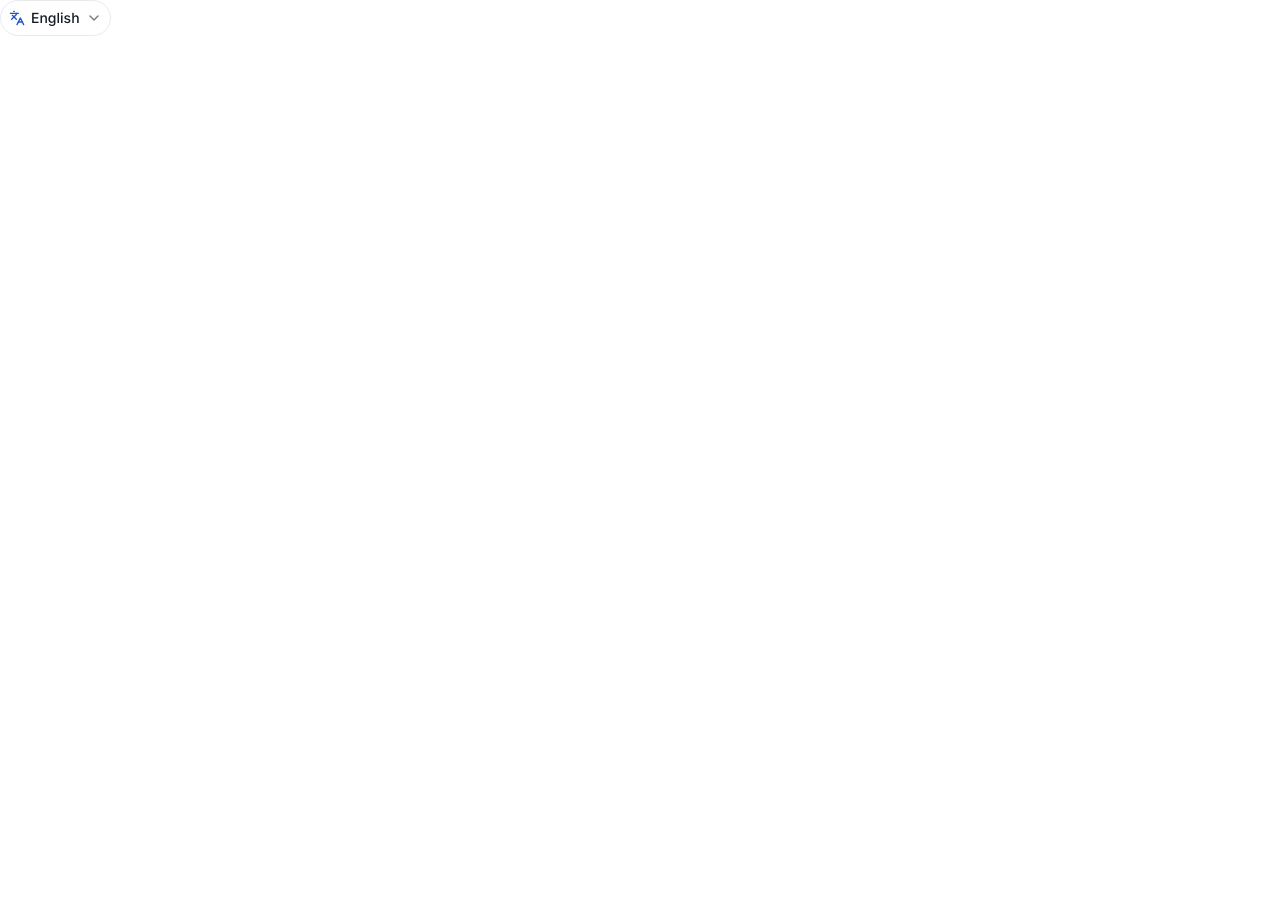
Test case: language switcher › shows the active language in the trigger and adds a language
The image size is (1280, 900).
Click the button "English".
click(55, 18)  # box [0, 0, 111, 36]
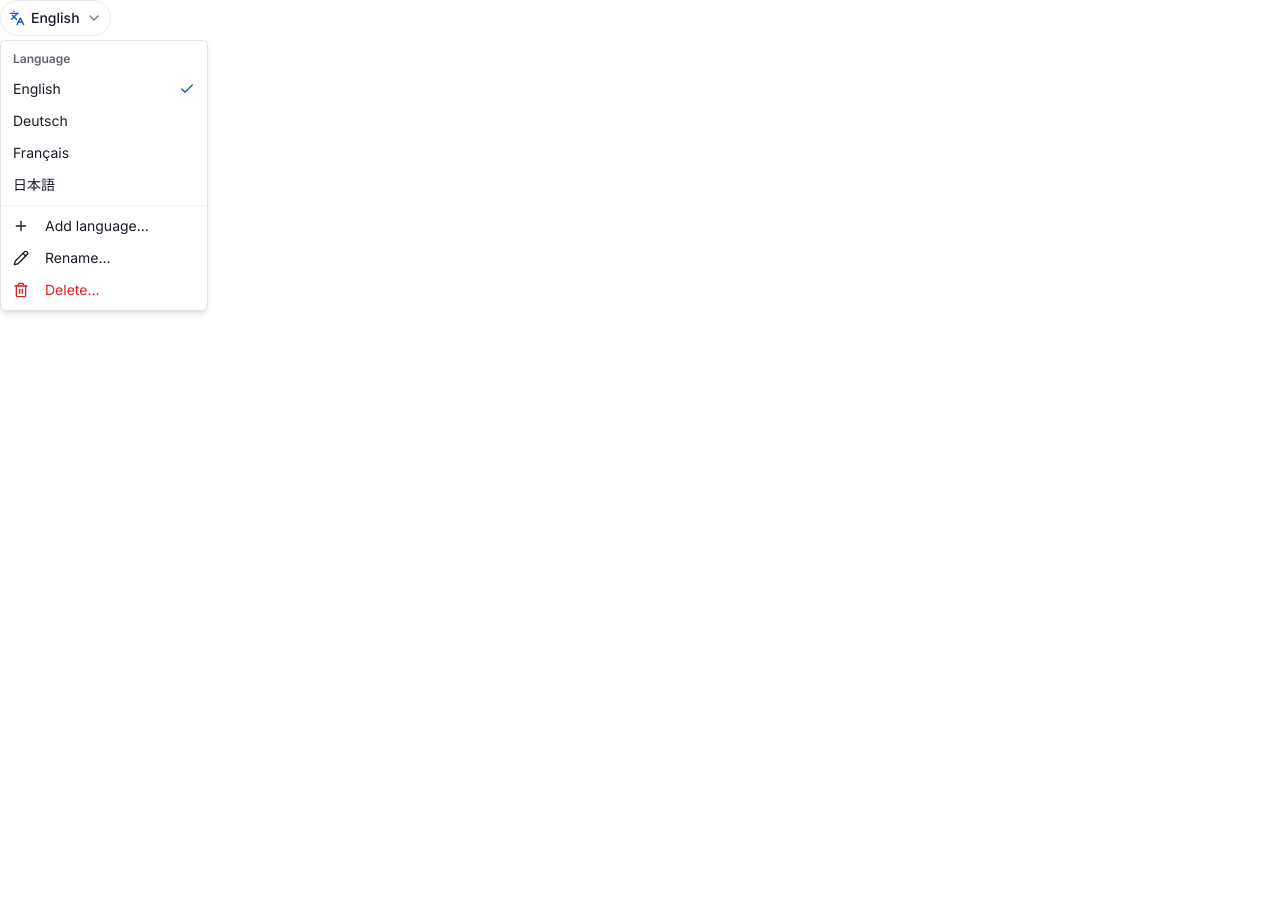
Check: the menu item "Add language…" is shown
Click the menu item "Add language…".
click(81, 226)  # box [13, 217, 149, 234]
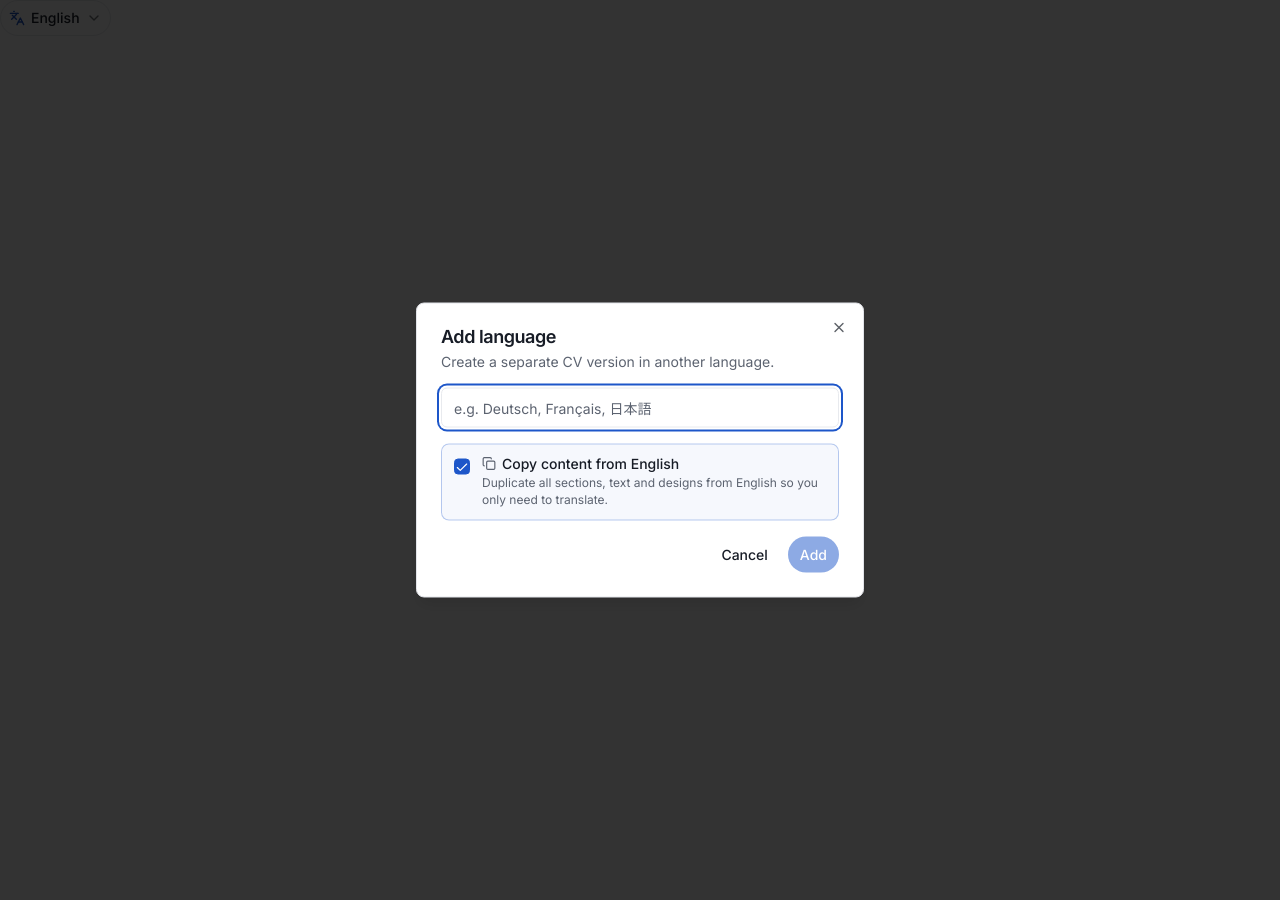
Check: the dialog is shown, box [416, 302, 864, 598]
Type "Español" into the field with placeholder "e.g. Deutsch, Français, 日本語".
click(640, 408); type("Español")  # box [441, 388, 839, 428]
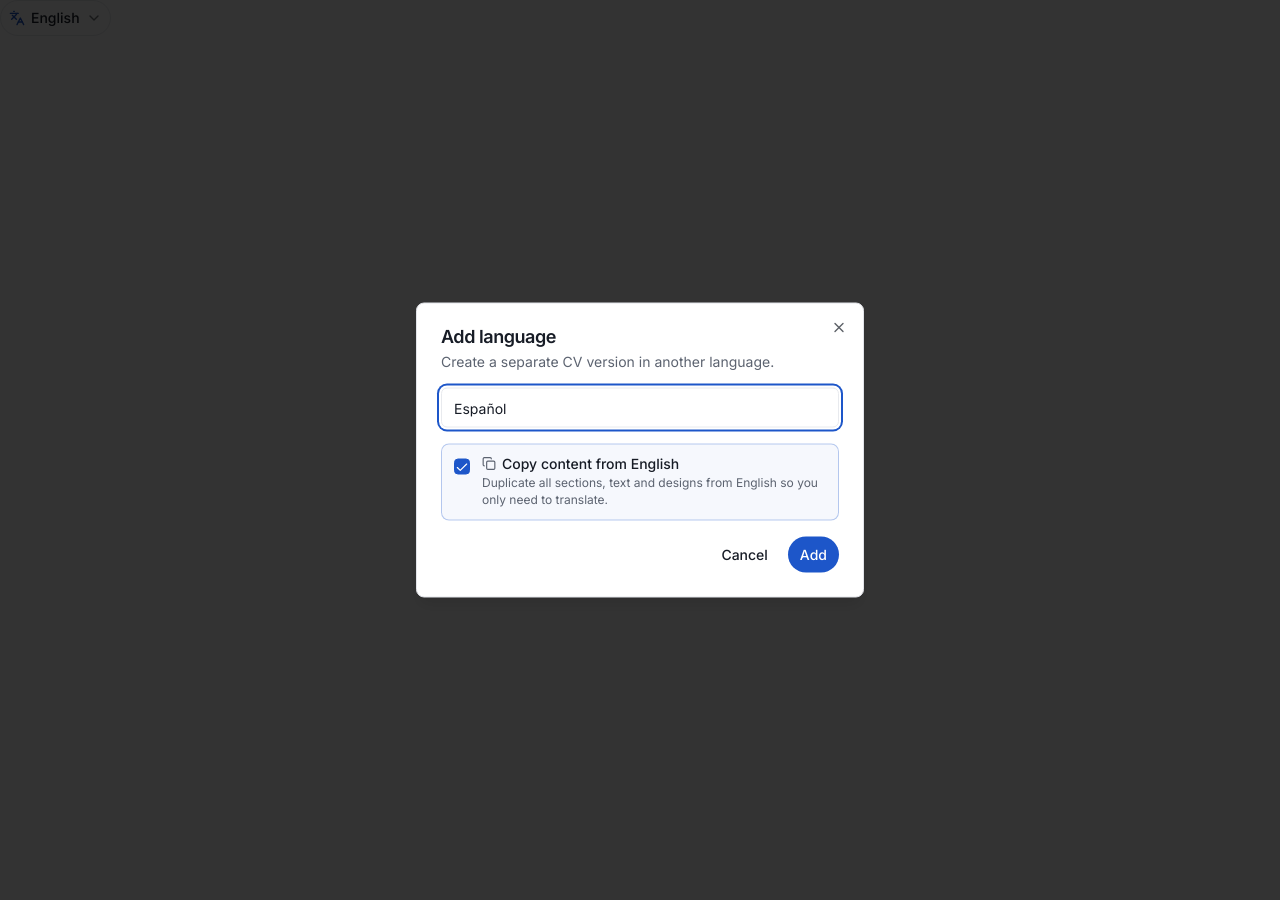
Click the button "Add".
click(813, 554)  # box [788, 536, 839, 572]
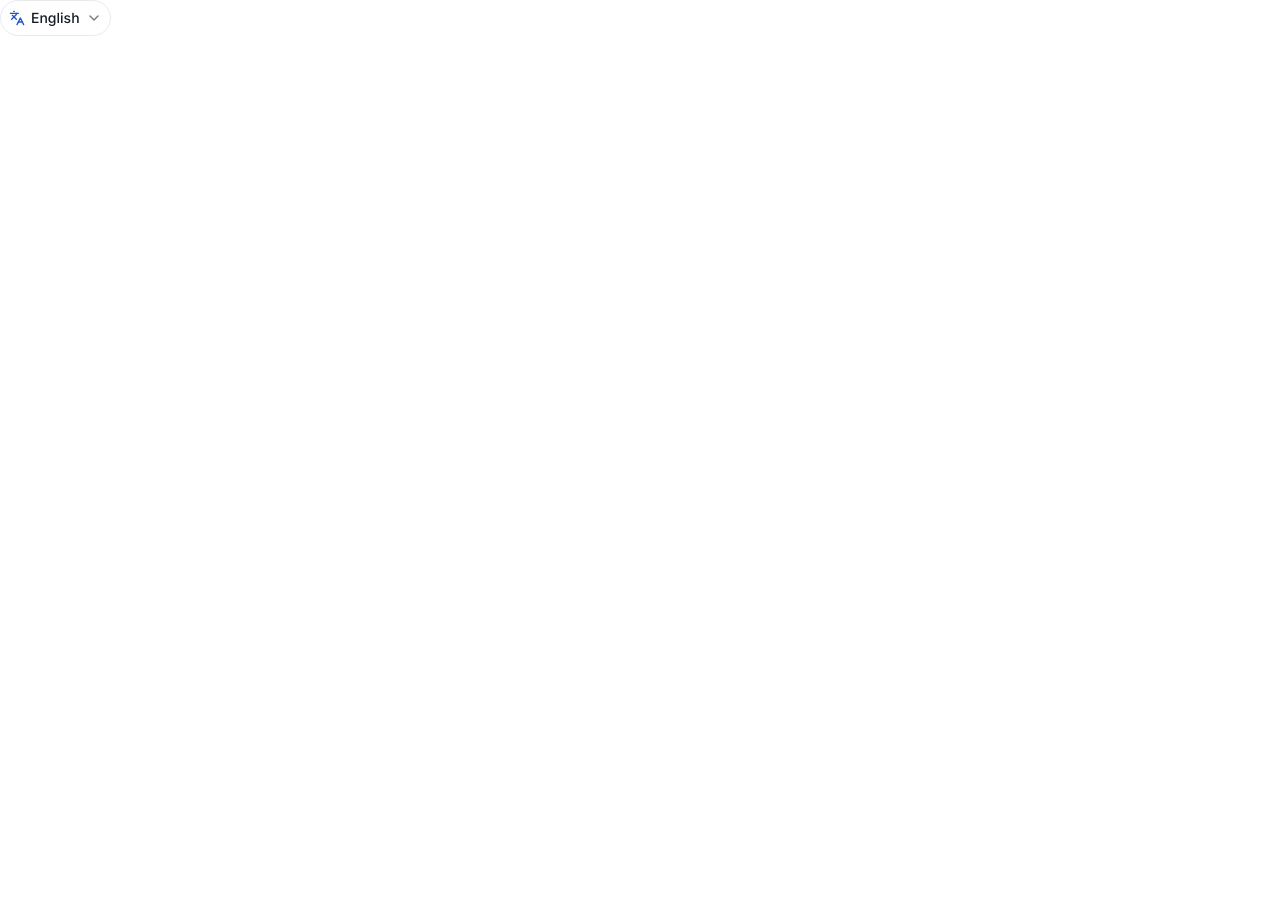
Check: the dialog is gone
// Reopen the menu — the new language should be listed.
Click the button "English".
click(55, 18)  # box [0, 0, 111, 36]
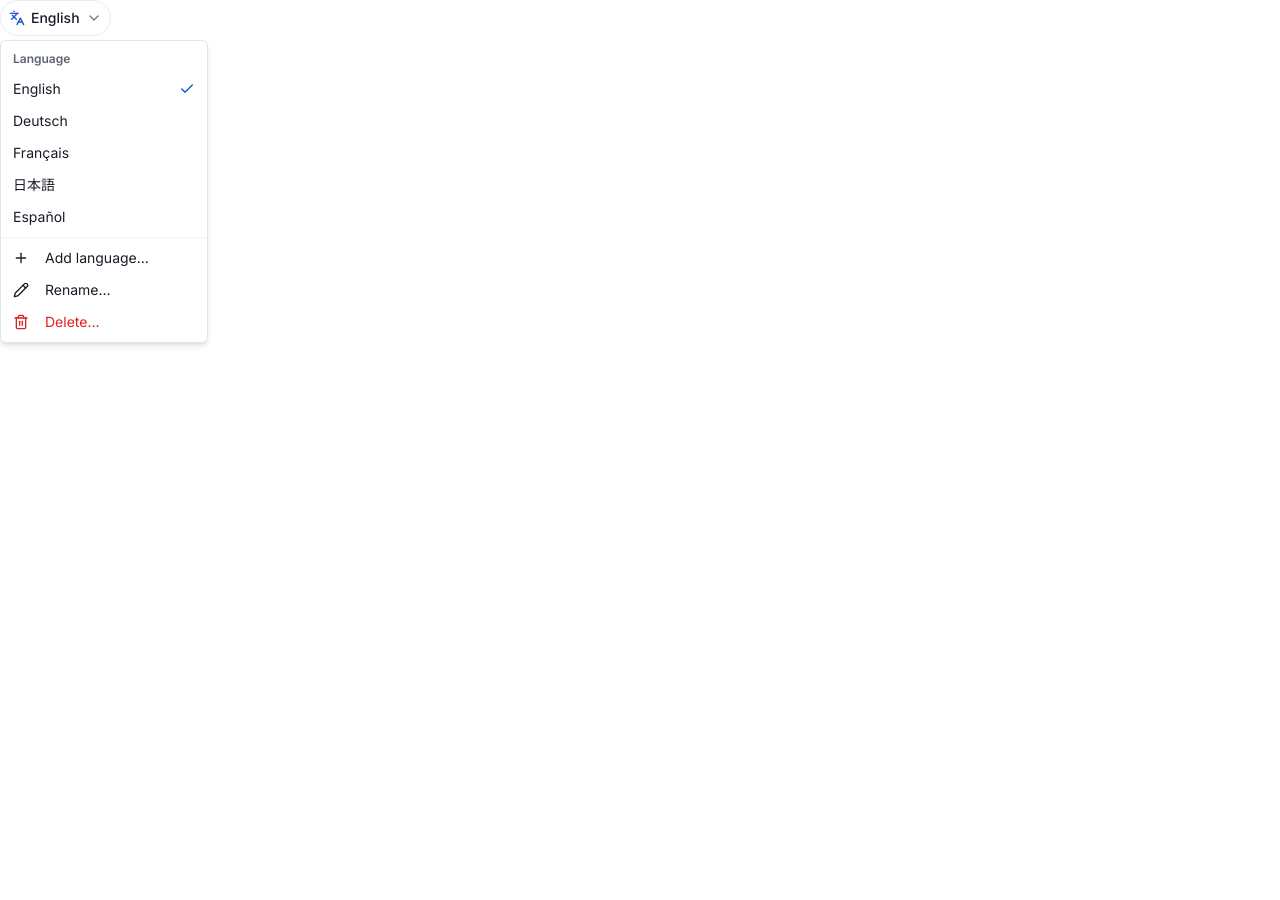
Check: the text "Español" is shown, box [13, 208, 65, 225]
